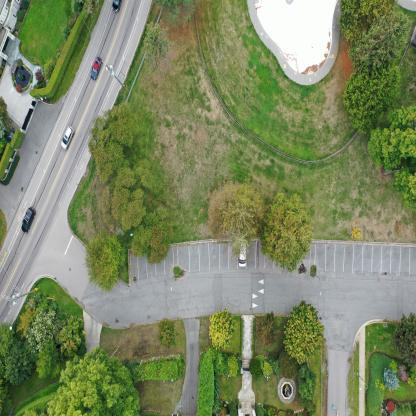Coniferous Tree: (207, 184, 269, 251), (352, 7, 414, 72), (345, 58, 401, 128), (266, 190, 314, 268), (95, 174, 154, 225), (86, 112, 138, 166), (337, 0, 397, 45), (136, 211, 177, 261), (87, 237, 130, 284), (142, 25, 173, 72), (153, 0, 197, 28), (394, 312, 416, 362)
Deciduous Tree: (50, 343, 134, 416), (365, 108, 416, 162), (285, 306, 322, 356), (382, 154, 416, 206), (208, 312, 235, 346), (254, 315, 276, 342)
